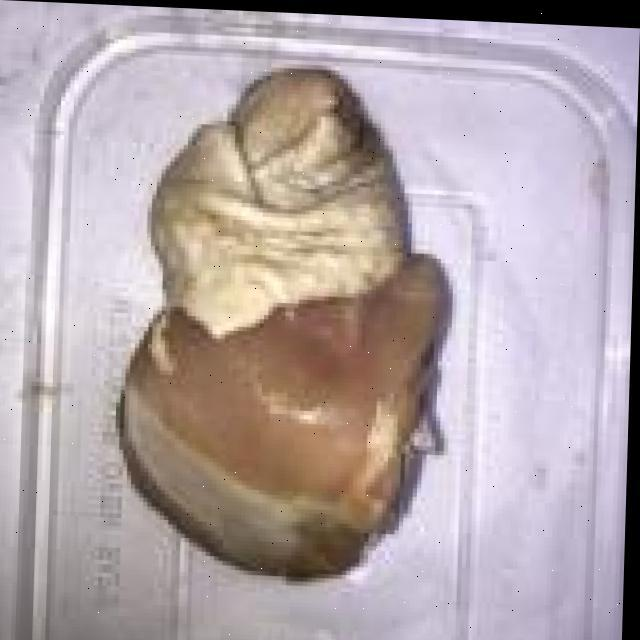breast: (116, 51, 460, 604)
